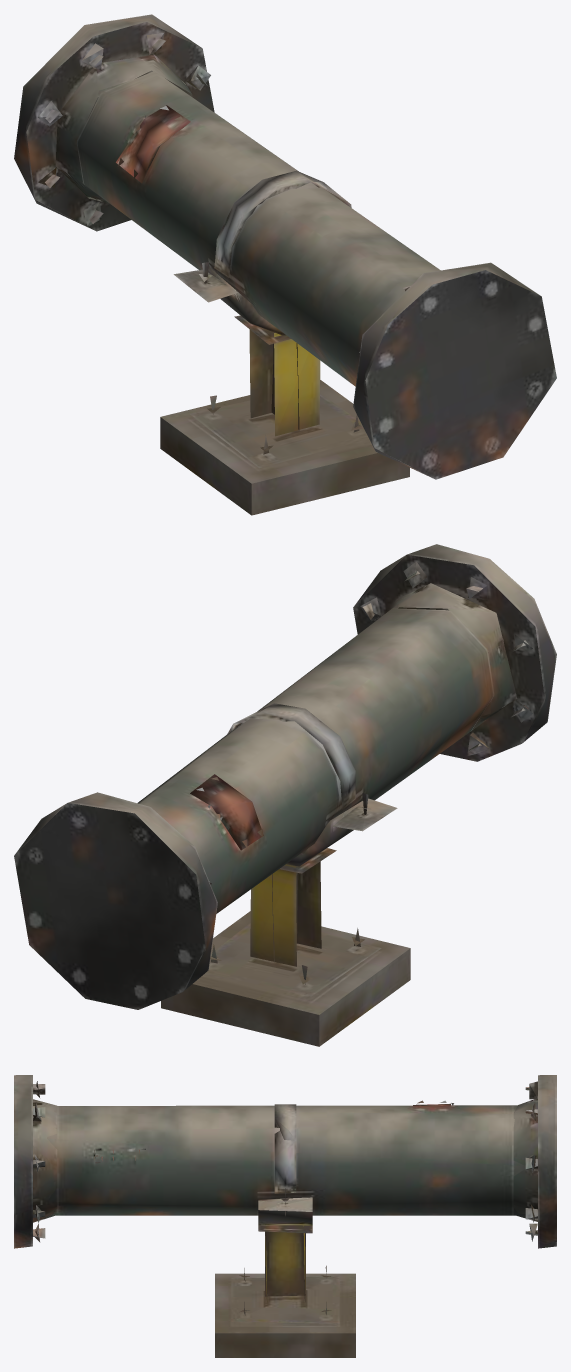
Rendered from cano_reto.glb.
The picture shows the model from 3 angles, top to bottom: view 1: azimuth 30°, elevation 25°; view 2: azimuth 150°, elevation 25°; view 3: azimuth 270°, elevation 25°; orthographic projection. The views are drawn at different scales.
Parts seen in each view (by area): view 1: cano_reto_corpo; view 2: cano_reto_corpo; view 3: cano_reto_corpo.
Boxes of the visible parts, <box> form: cano_reto_corpo: <box>14,14,556,515</box>; cano_reto_corpo: <box>14,544,556,1046</box>; cano_reto_corpo: <box>14,1075,556,1357</box>.
Size of the model in its own units: 0.3148 by 0.495 by 1.
Materials: 1 (1 with a texture image).
